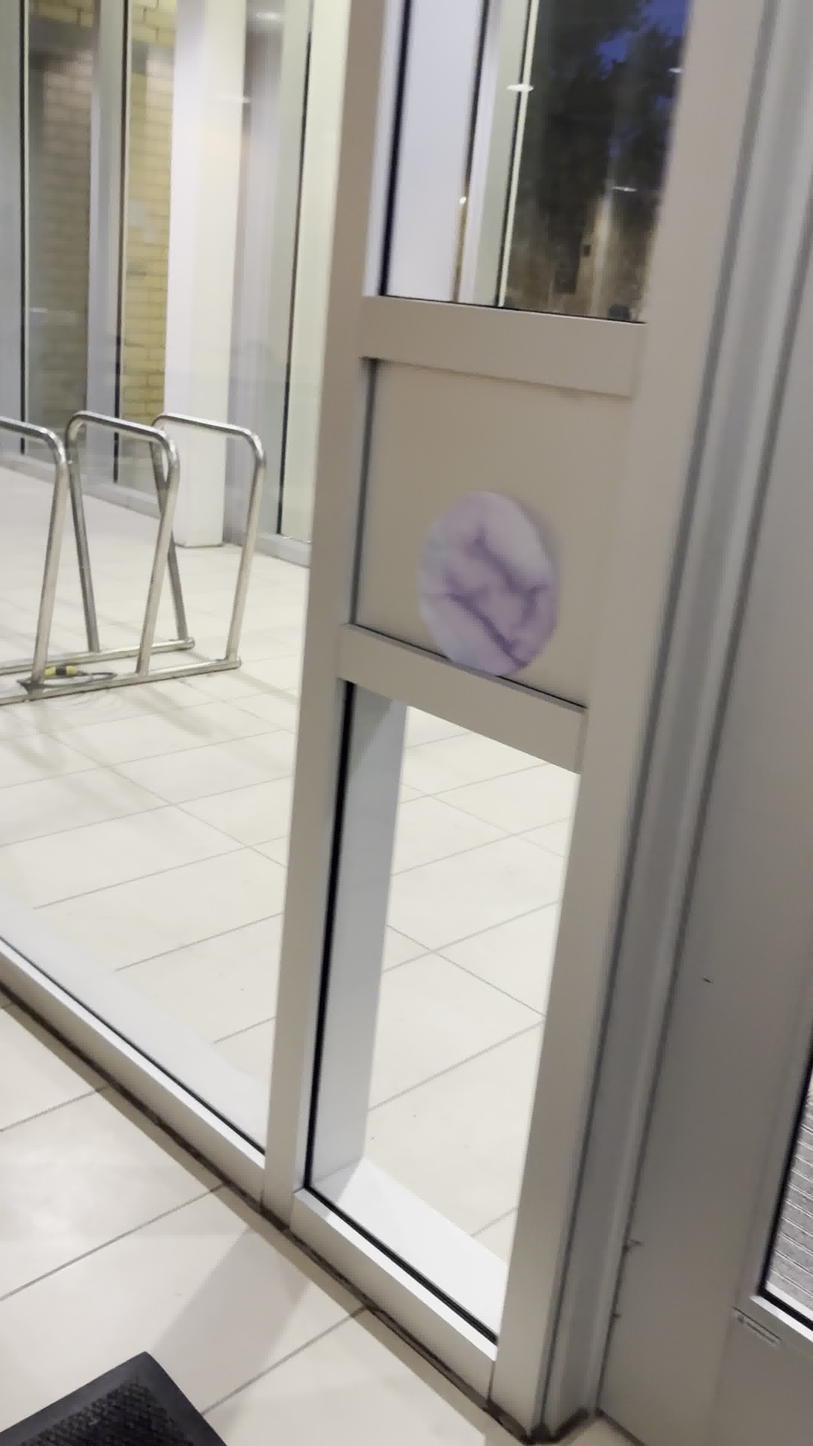Target: (406, 472, 565, 686)
